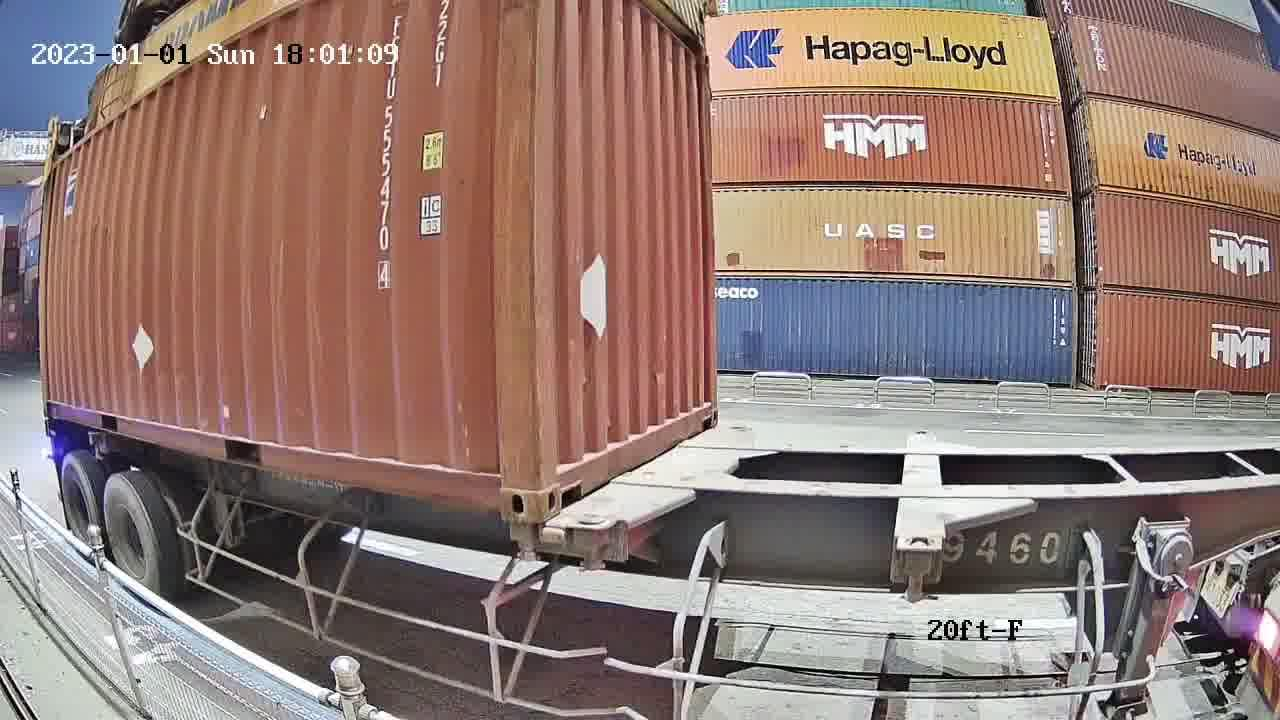Chassis: (574, 427, 753, 529)
Cone: (575, 514, 617, 573), (506, 522, 539, 562)
Hole_L: (536, 430, 585, 523)
Hole_R: (464, 440, 539, 523), (694, 383, 719, 435)
Tire: (101, 475, 160, 601), (61, 457, 100, 556)
